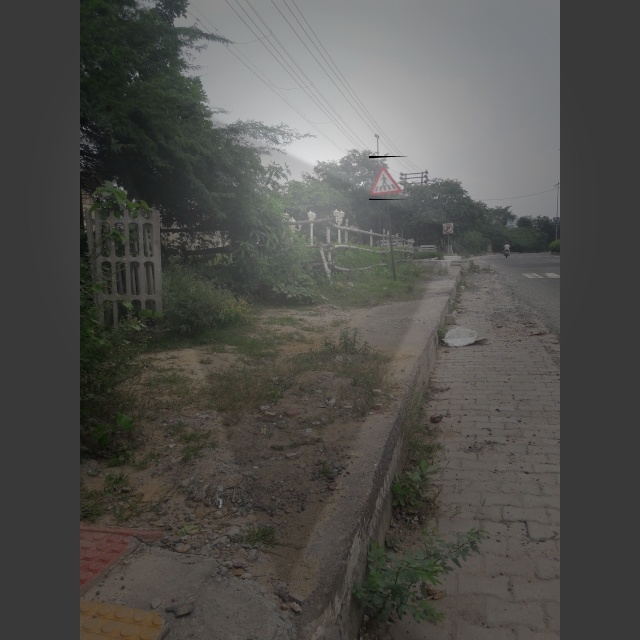Pedestrian_Crossing: (369, 156, 410, 200)
